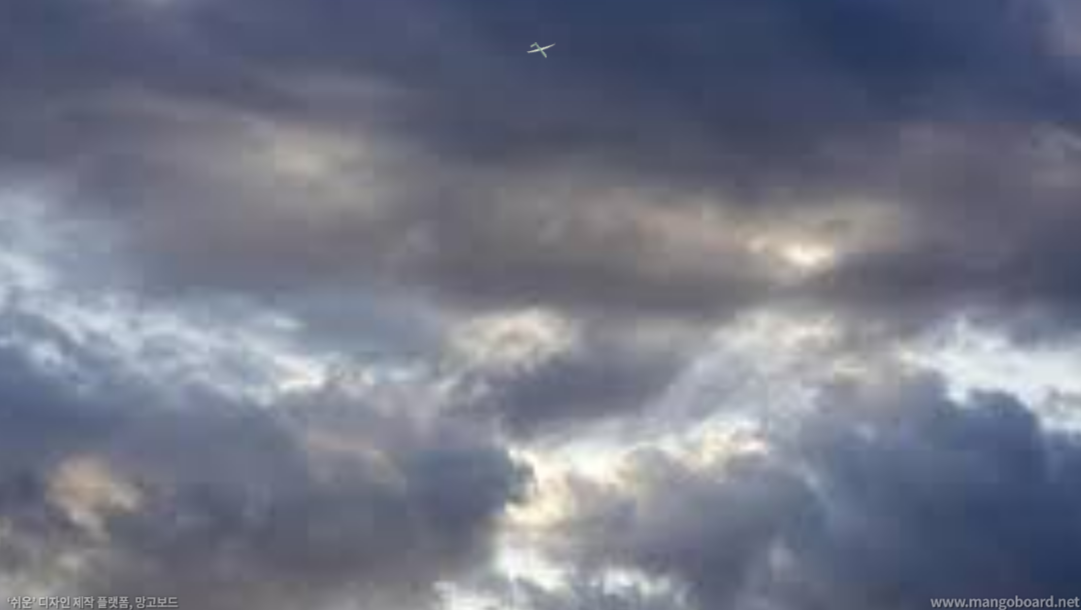military drone: (526, 41, 556, 58)
